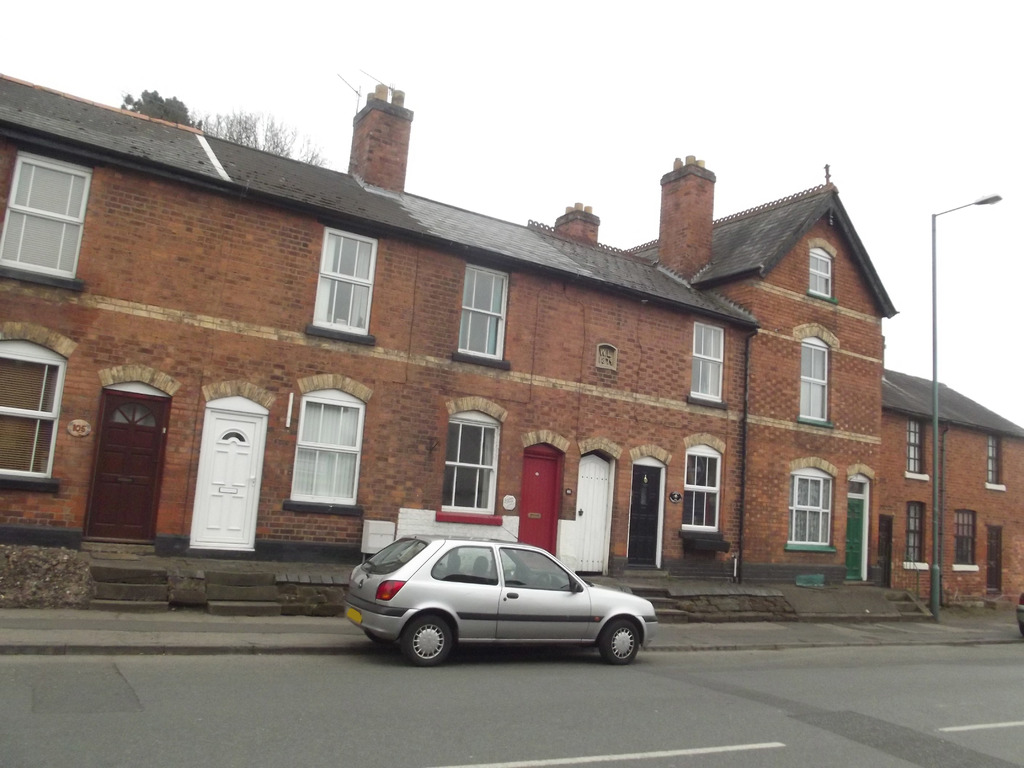Car: (342, 535, 657, 668)
